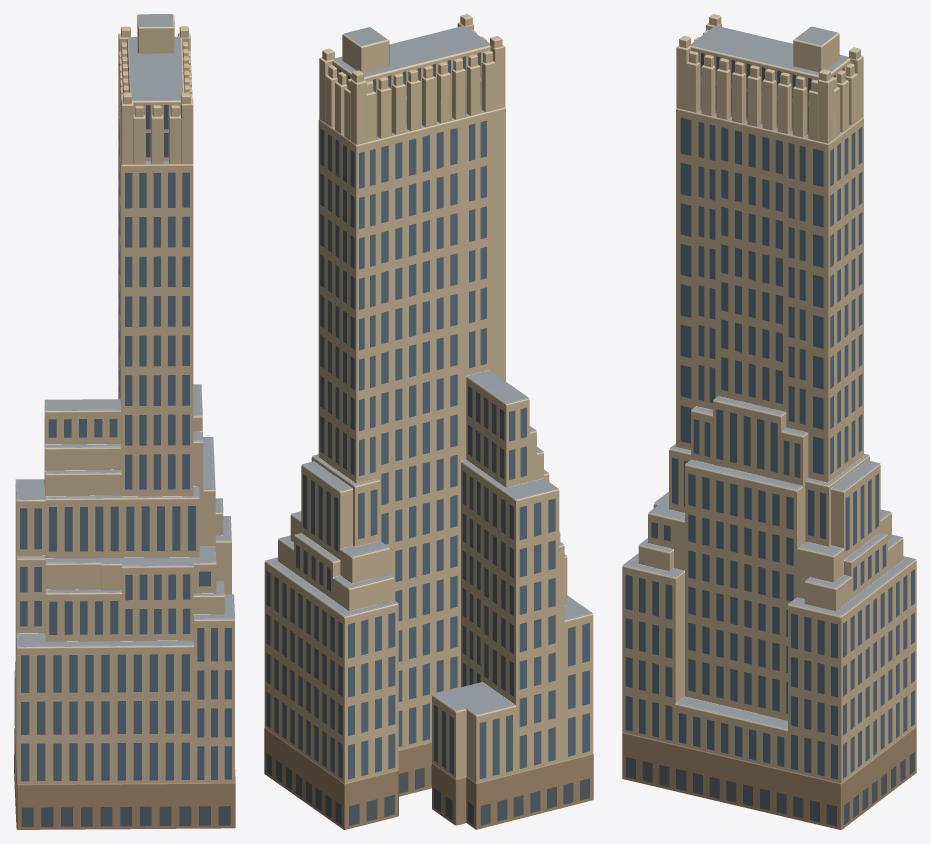
File: detail.glb
3 renders of one model, left to right at view 1: azimuth 30°, elevation 25°; view 2: azimuth 150°, elevation 25°; view 3: azimuth 270°, elevation 25°, orthographic. The views are drawn at different scales.
Visible parts, largest first — view 1: chanin-building; view 2: chanin-building; view 3: chanin-building.
Boxes of the visible parts, x1,y1,x2,y2 form: chanin-building: (14, 14, 235, 829); chanin-building: (264, 14, 593, 829); chanin-building: (622, 14, 916, 829).
Size of the model in its own units: 75.32 by 197 by 70.09.
